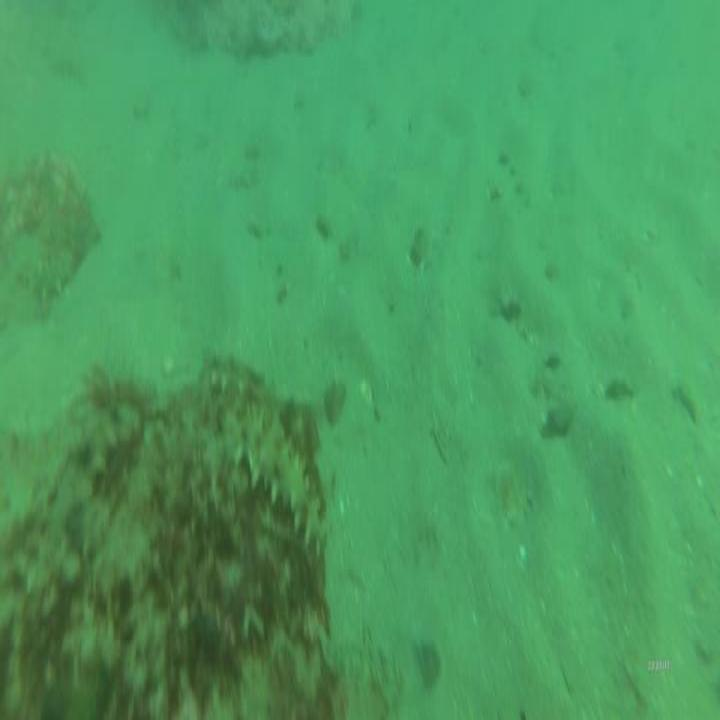holothurian: (239, 402, 330, 560)
